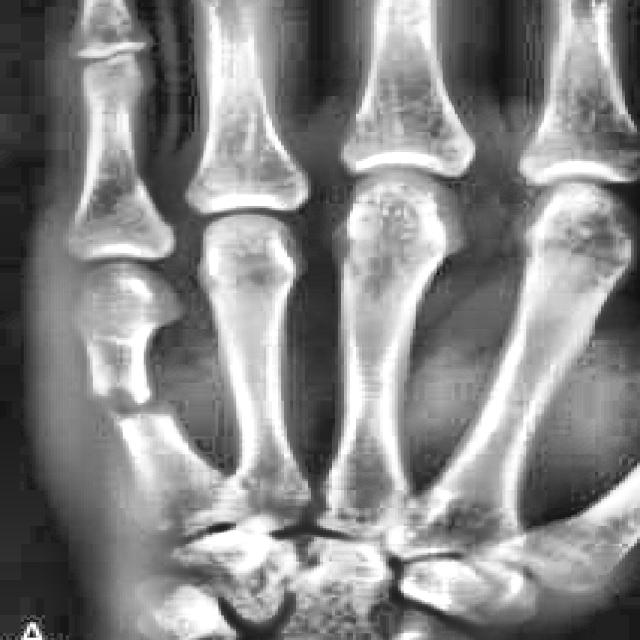fracture: (84, 385, 173, 427)
